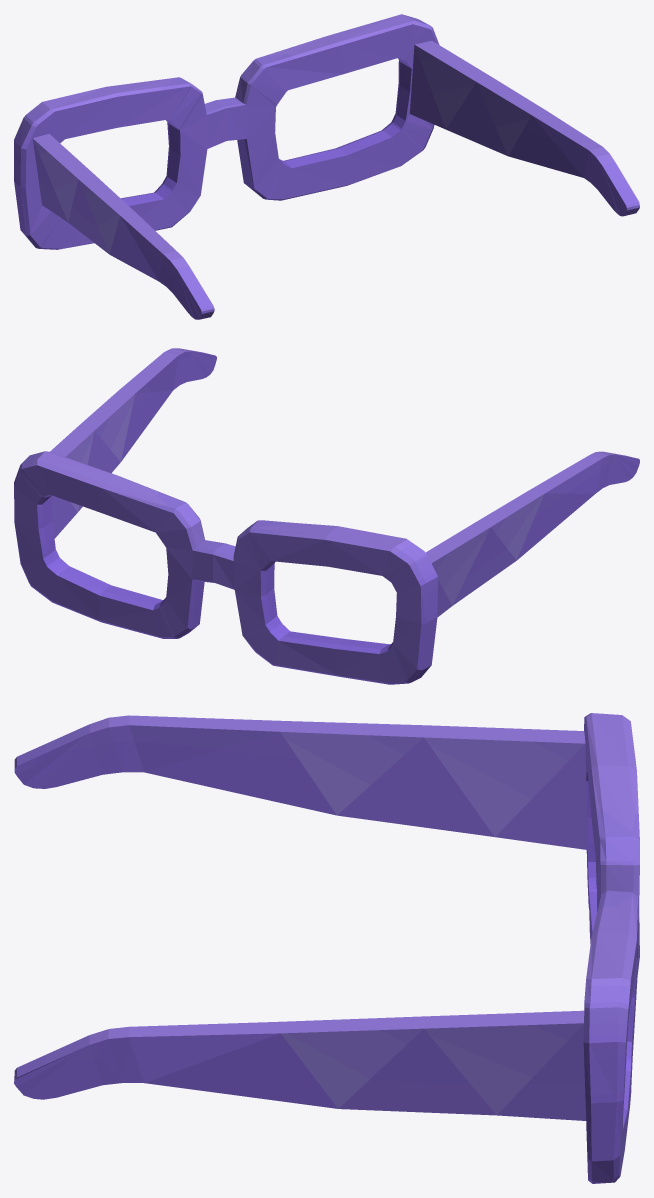
File: CharSkyKid_Face_PersonalityPurpleGlasses.glb
3 views of the same model, one above another, from view 1: azimuth 30°, elevation 25°; view 2: azimuth 150°, elevation 25°; view 3: azimuth 270°, elevation 25° (orthographic). The views are drawn at different scales.
Visible parts, largest first — view 1: CharSkyKid_Face_PersonalityPurpleGlasses; view 2: CharSkyKid_Face_PersonalityPurpleGlasses; view 3: CharSkyKid_Face_PersonalityPurpleGlasses.
Boxes of the visible parts, bbox=[...] form: CharSkyKid_Face_PersonalityPurpleGlasses: bbox=[14, 14, 639, 319]; CharSkyKid_Face_PersonalityPurpleGlasses: bbox=[14, 348, 639, 684]; CharSkyKid_Face_PersonalityPurpleGlasses: bbox=[14, 713, 639, 1183].
Bounding box in the file's own units: 2.29 × 0.7496 × 1.89.
Materials: 1 (1 with a texture image).
